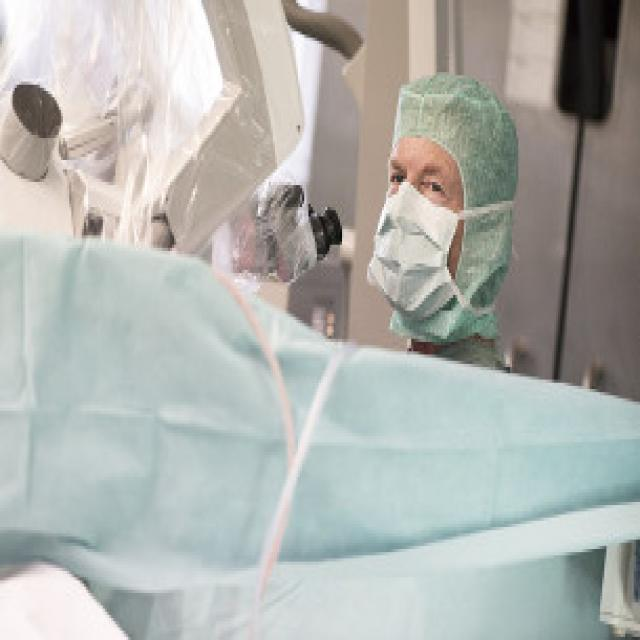mask: (371, 119, 464, 314)
